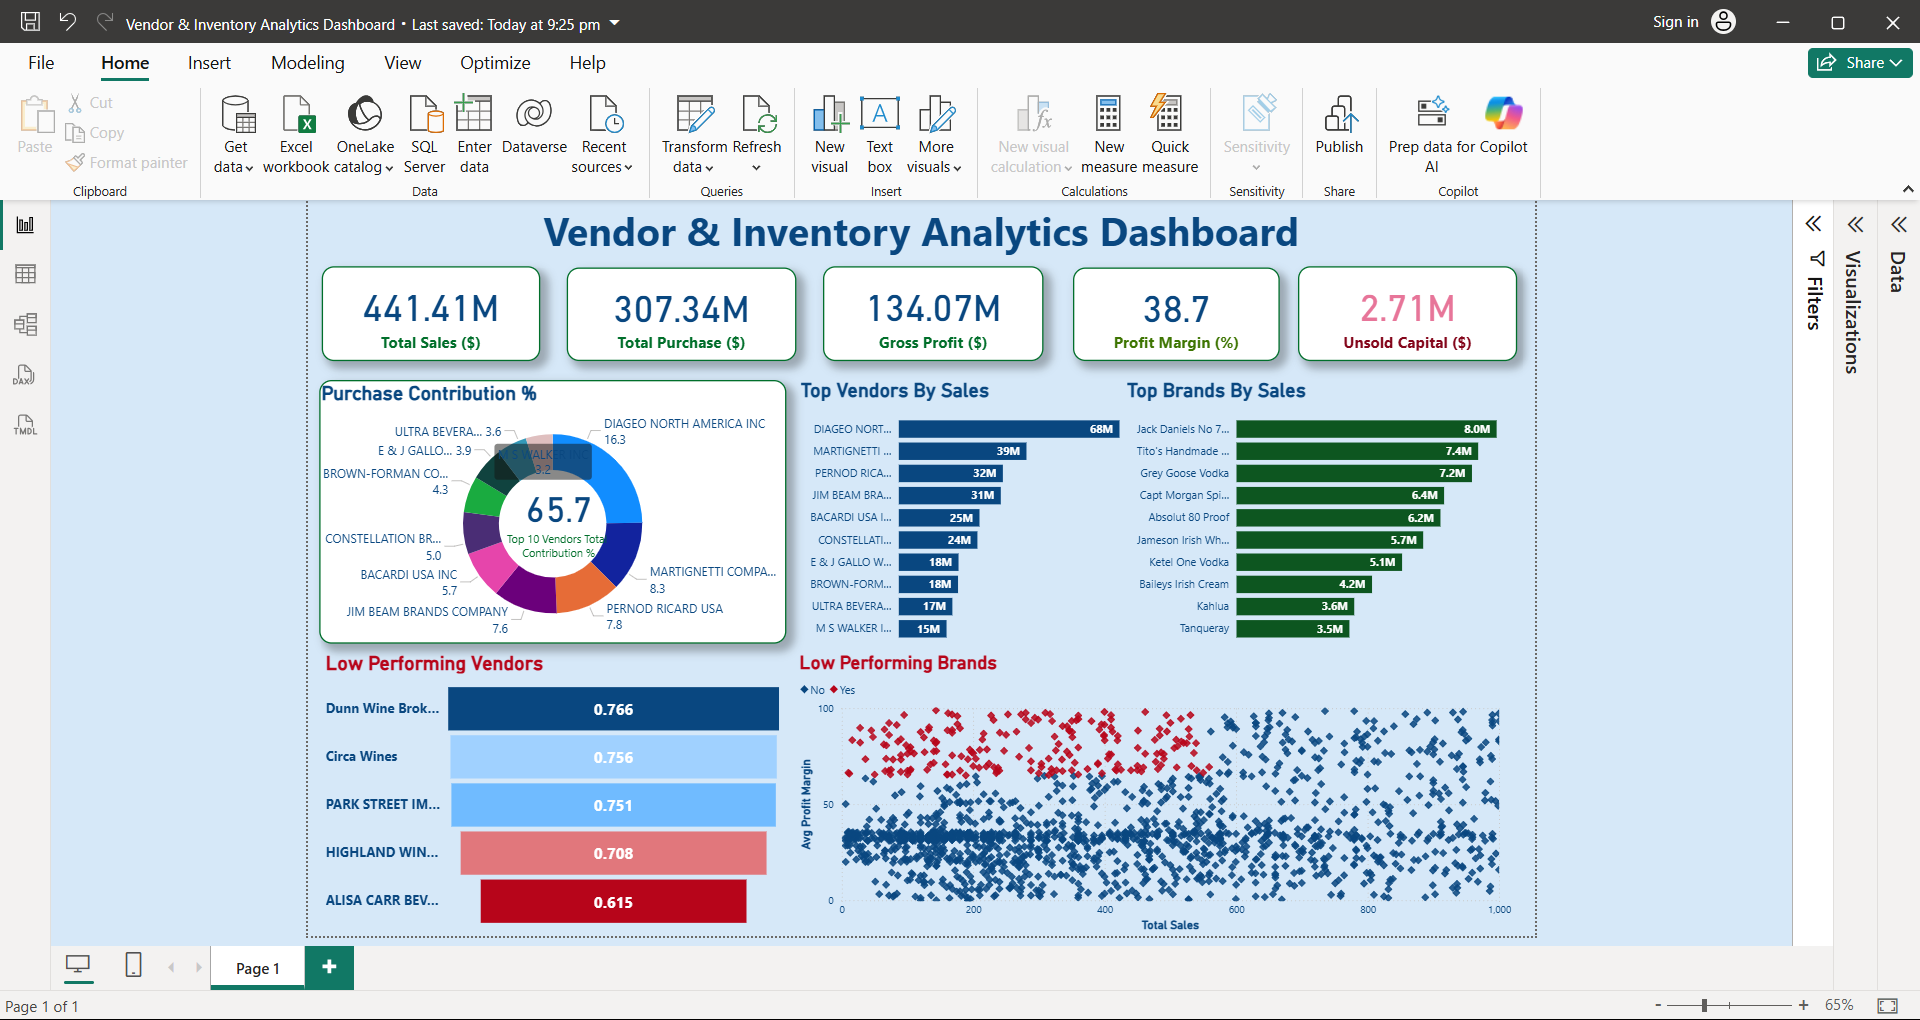

The page's visual inventory and layout, read from the dashboard file:
{"tool":"powerbi","page":{"name":"Page 1","canvas":[1500,900],"ordinal":0},"visuals":[{"type":"card","fields":{"Values":["Sum(vendor_sales_summary.TotalPurchaseDollars)"]},"box":[315.8,82.4,280.9,114.6],"z":0},{"type":"card","fields":{"Values":["Sum(vendor_sales_summary.TotalSalesDollars)"]},"box":[16.8,81,266.9,116],"z":1000},{"type":"card","fields":{"Values":["Sum(vendor_sales_summary.GrossProfit)"]},"box":[630.2,81,269.7,116],"z":2000},{"type":"card","fields":{"Values":["Avg(vendor_sales_summary.ProfitMargin)"]},"box":[934.8,82.4,252.9,114.6],"z":3000},{"type":"card","fields":{"Values":["Sum(vendor_sales_summary.UnsoldCapital)"]},"box":[1210.1,81,268.3,116],"z":4000},{"type":"textbox","box":[0,0,1500,83],"z":5000},{"type":"donutChart","title":"Purchase Contribution % ","fields":{"Category":["PurchaseContribution.VendorName"],"Y":["Sum(PurchaseContribution.PurchaseContribution%)"]},"box":[14.5,219.4,571,322.6],"z":6000},{"type":"card","fields":{"Values":["Sum(PurchaseContribution.PurchaseContribution%)"]},"box":[211.8,266.7,188.2,233.3],"z":7000},{"type":"barChart","title":"Top Vendors By Sales","fields":{"Category":["vendor_sales_summary.VendorName"],"Y":["Sum(vendor_sales_summary.TotalSalesDollars)"]},"box":[597.3,219.2,447.9,332.9],"z":8000},{"type":"barChart","title":"Top Brands By Sales","fields":{"Category":["vendor_sales_summary.Description"],"Y":["Sum(vendor_sales_summary.TotalSalesDollars)"]},"box":[995.9,219.2,504.1,332.9],"z":9000},{"type":"funnel","title":"Low Performing Vendors","fields":{"Category":["LowTurnoverVendor.VendorName"],"Y":["Avg(LowTurnoverVendor.AvgStockTurnOver)"]},"box":[16.1,551.6,569.4,348.4],"z":10000},{"type":"scatterChart","title":"Low Performing Brands","fields":{"X":["Sum(BrandPerformance.TotalSales)"],"Y":["Sum(BrandPerformance.AvgProfitMargin)"],"Series":["BrandPerformance.TargetBrand"],"Category":["BrandPerformance.Description"]},"box":[596.8,551.6,880.6,348.4],"z":11000}]}

Visuals, with their boxes on the page's 1500x900 design canvas (x1, y1, x2, y2). These are canvas units, not pixel positions in the 1920x1020 screenshot, which may show the page scaled, cropped or inside an application window:
card - Sum(vendor_sales_summary.TotalPurchaseDollars): pyautogui.locateOnScreen(316, 82, 597, 197)
card - Sum(vendor_sales_summary.TotalSalesDollars): pyautogui.locateOnScreen(17, 81, 284, 197)
card - Sum(vendor_sales_summary.GrossProfit): pyautogui.locateOnScreen(630, 81, 900, 197)
card - Avg(vendor_sales_summary.ProfitMargin): pyautogui.locateOnScreen(935, 82, 1188, 197)
card - Sum(vendor_sales_summary.UnsoldCapital): pyautogui.locateOnScreen(1210, 81, 1478, 197)
textbox: pyautogui.locateOnScreen(0, 0, 1500, 83)
"Purchase Contribution % " donutChart: pyautogui.locateOnScreen(14, 219, 586, 542)
card - Sum(PurchaseContribution.PurchaseContribution%): pyautogui.locateOnScreen(212, 267, 400, 500)
"Top Vendors By Sales" barChart: pyautogui.locateOnScreen(597, 219, 1045, 552)
"Top Brands By Sales" barChart: pyautogui.locateOnScreen(996, 219, 1500, 552)
"Low Performing Vendors" funnel: pyautogui.locateOnScreen(16, 552, 586, 900)
"Low Performing Brands" scatterChart: pyautogui.locateOnScreen(597, 552, 1477, 900)
